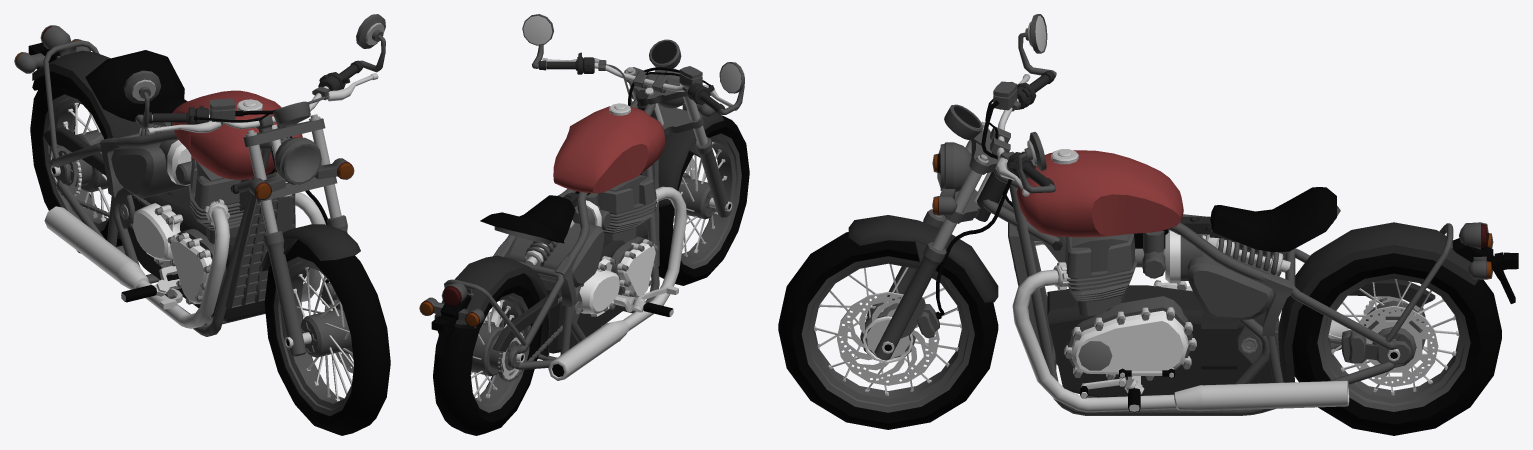
File: B5_Bike_No_Rotation.fbx
3 renders of one model, left to right at view 1: azimuth 30°, elevation 25°; view 2: azimuth 150°, elevation 25°; view 3: azimuth 270°, elevation 25°, orthographic. The views are drawn at different scales.
Parts seen in each view (by area): view 1: B5_Bike_01_Body, B5_Bike_01_Steer, B5_Bike_01_W_0, B5_Bike_01_W_1; view 2: B5_Bike_01_Body, B5_Bike_01_Steer, B5_Bike_01_W_1, B5_Bike_01_W_0; view 3: B5_Bike_01_Body, B5_Bike_01_W_0, B5_Bike_01_W_1, B5_Bike_01_Steer.
Boxes of the visible parts, x1,y1,x2,y2 form: B5_Bike_01_Body: (14, 25, 325, 336); B5_Bike_01_Steer: (124, 14, 385, 356); B5_Bike_01_W_0: (264, 239, 390, 435); B5_Bike_01_W_1: (30, 71, 122, 253); B5_Bike_01_Body: (419, 89, 686, 381); B5_Bike_01_Steer: (522, 14, 744, 217); B5_Bike_01_W_1: (433, 273, 542, 435); B5_Bike_01_W_0: (658, 115, 749, 285); B5_Bike_01_Body: (975, 149, 1518, 415); B5_Bike_01_W_0: (778, 232, 998, 429); B5_Bike_01_W_1: (1292, 253, 1501, 435); B5_Bike_01_Steer: (848, 14, 1056, 360).
Bounding box in the file's own units: 94.87 × 117 × 220.
